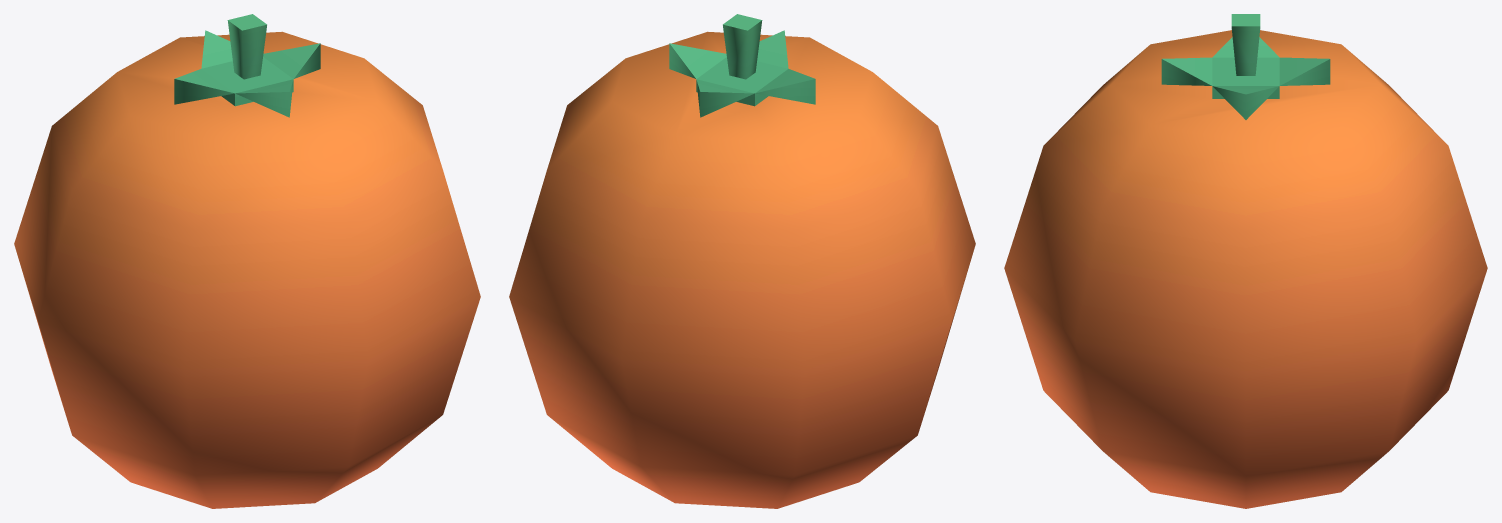
The model's file is orange.glb.
3 views of the same model, side by side, from view 1: azimuth 30°, elevation 25°; view 2: azimuth 150°, elevation 25°; view 3: azimuth 270°, elevation 25° (orthographic).
Visible parts, largest first — view 1: orange; view 2: orange; view 3: orange.
Part boxes in pixels (x1,y1,x2,y2): orange: [14, 14, 480, 508]; orange: [509, 14, 975, 508]; orange: [1004, 14, 1487, 508].
Bounding box in the file's own units: 0.1697 × 0.1672 × 0.1697.
1 material, 1 textured.
